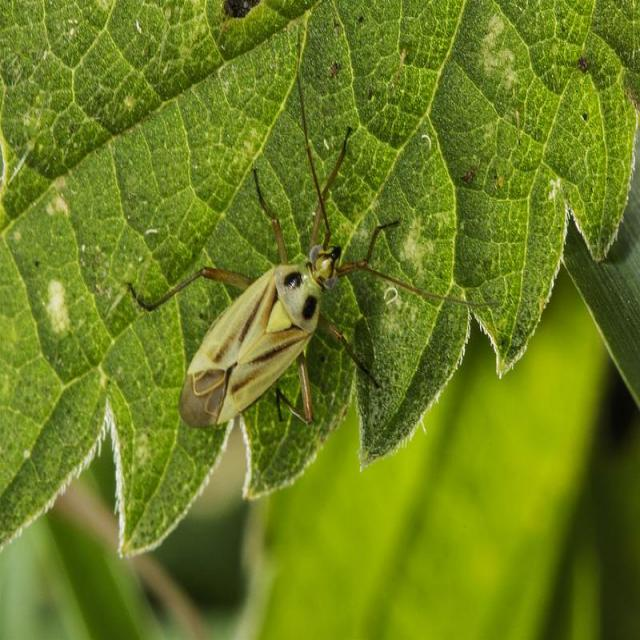Miridae-Adult-: (130, 63, 430, 454)
